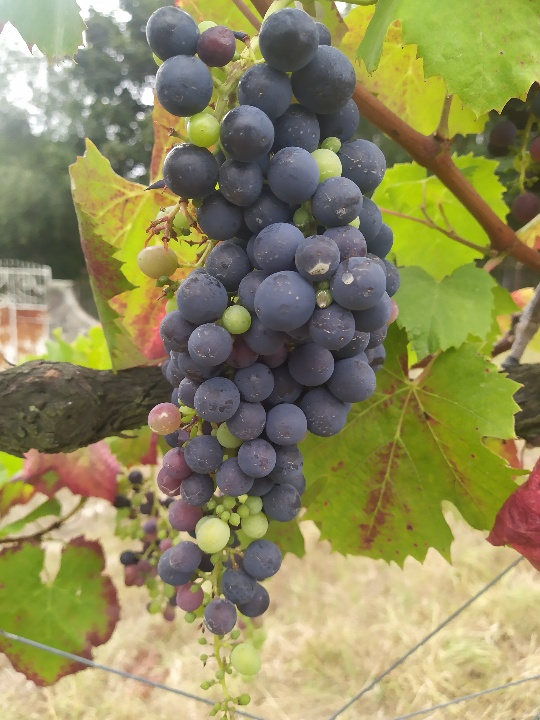grape: (140, 5, 401, 720)
